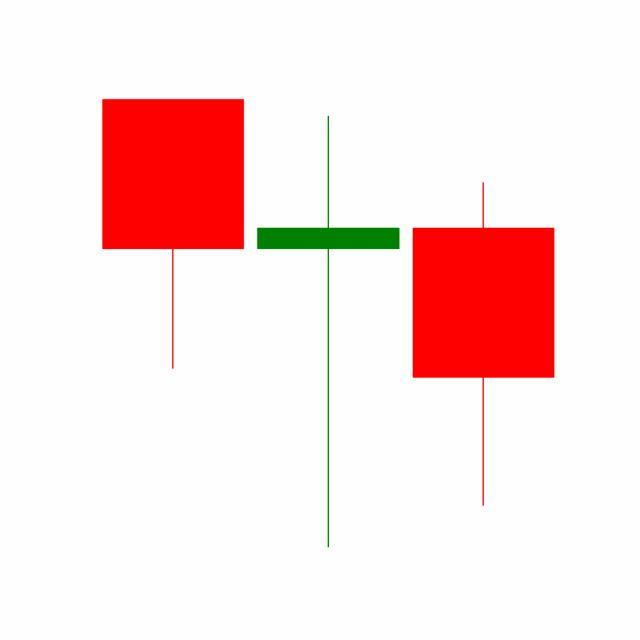Spinning Top: (250, 112, 407, 553)
